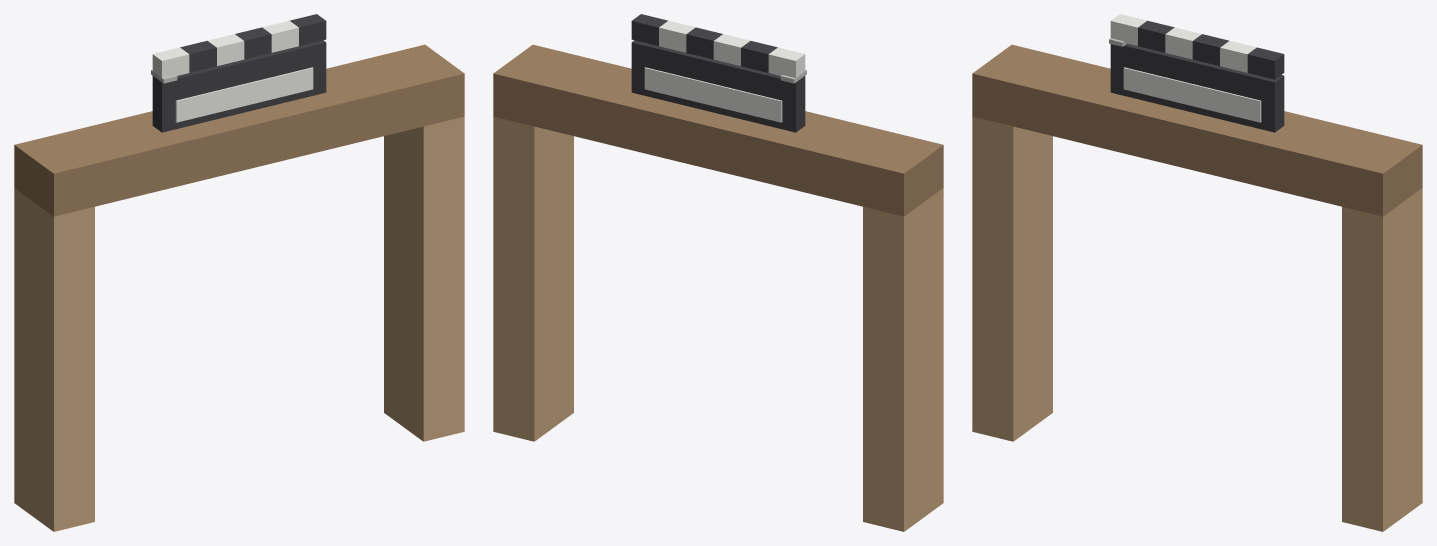
File: SM_Course_GateStart.fbx
The picture shows the model from 3 angles, left to right: view 1: azimuth 30°, elevation 25°; view 2: azimuth 150°, elevation 25°; view 3: azimuth 330°, elevation 25°; orthographic projection.
Visible parts, largest first — view 1: SM_Course_GateStart; view 2: SM_Course_GateStart; view 3: SM_Course_GateStart.
Boxes of the visible parts, x1,y1,x2,y2 form: SM_Course_GateStart: (14, 14, 464, 531); SM_Course_GateStart: (493, 14, 943, 531); SM_Course_GateStart: (972, 14, 1422, 531).
Bounding box in the file's own units: 300 × 300 × 50.
